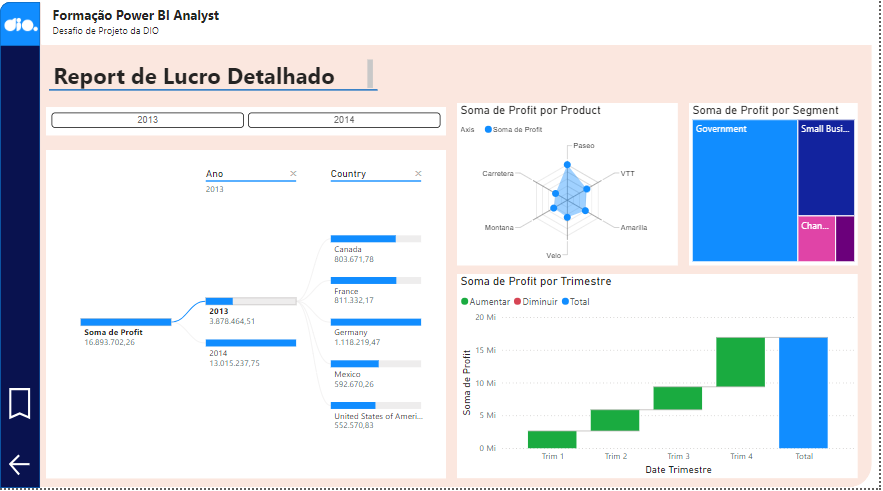

What the dashboard file says about the page in this screenshot:
{"tool":"powerbi","page":{"name":"Lucro","canvas":[1280,720],"ordinal":1},"visuals":[{"type":"shape","box":[42.6,20.7,1225.3,699.3],"z":0},{"type":"shape","box":[83.9,127.8,473,37.1],"z":0,"group":"g1"},{"type":"textbox","box":[85.3,97.6,470.2,52.2],"z":1000,"group":"g1"},{"type":"shape","box":[12.4,20.2,57.7,699.8],"z":1000},{"type":"shape","box":[12.4,20.6,57.7,63.2],"z":2000},{"type":"image","box":[13.7,33,57.7,39.9],"z":3000},{"type":"shape","title":"Fundo do Título","box":[71.5,20.6,1198.9,61.9],"z":4000},{"type":"textbox","title":"Título do report","box":[83.9,22,378.1,63.2],"z":5000},{"type":"shape","box":[79.7,233.7,576.1,473],"z":6000},{"type":"decompositionTreeVisual","fields":{"Analyze":["Sum(financials.Profit)"],"ExplainBy":["financials.Date.Variation.Hierarquia de datas.Ano","financials.Country"]},"box":[99.8,242.2,536.3,456.5],"z":7000},{"type":"waterfallChart","fields":{"Category":["financials.Date.Variation.Hierarquia de datas.Trimestre"],"Y":["Sum(financials.Profit)"]},"box":[670.9,412.5,577.4,294.2],"z":8000},{"type":"ChicletSlicer1448559807354","fields":{"Category":["financials.Date.Variation.Hierarquia de datas.Ano"]},"box":[79.8,171.1,576.4,40.8],"z":9000},{"type":"RadarChart1446119667547","fields":{"Category":["financials.Product"],"Y":["Sum(financials.Profit)"]},"box":[670.9,165,317.6,233.7],"z":10000},{"type":"treemap","fields":{"Values":["Sum(financials.Profit)"],"Group":["financials.Segment"]},"box":[1005,165,243.4,233.7],"z":11000},{"type":"actionButton","box":[22,666.8,48.1,39.9],"z":12000},{"type":"group","id":"g1","title":"Sales report","box":[83.9,97.6,473,67.4],"z":13000},{"type":"actionButton","box":[12.8,545.8,57,105.5],"z":14000}]}

Visuals, with their boxes on the page's 1280x720 design canvas (x1, y1, x2, y2). These are canvas units, not pixel positions in the 883x491 screenshot, which may show the page scaled, cropped or inside an application window:
shape: region(43, 21, 1268, 720)
shape: region(84, 128, 557, 165)
textbox: region(85, 98, 556, 150)
shape: region(12, 20, 70, 720)
shape: region(12, 21, 70, 84)
image: region(14, 33, 71, 73)
"Fundo do Título" shape: region(72, 21, 1270, 82)
"Título do report" textbox: region(84, 22, 462, 85)
shape: region(80, 234, 656, 707)
decompositionTreeVisual - Sum(financials.Profit) x financials.Date.Variation.Hierarquia de datas.Ano: region(100, 242, 636, 699)
waterfallChart - financials.Date.Variation.Hierarquia de datas.Trimestre x Sum(financials.Profit): region(671, 412, 1248, 707)
ChicletSlicer1448559807354 - financials.Date.Variation.Hierarquia de datas.Ano: region(80, 171, 656, 212)
RadarChart1446119667547 - financials.Product x Sum(financials.Profit): region(671, 165, 988, 399)
treemap - Sum(financials.Profit) x financials.Segment: region(1005, 165, 1248, 399)
actionButton: region(22, 667, 70, 707)
"Sales report" group: region(84, 98, 557, 165)
actionButton: region(13, 546, 70, 651)
